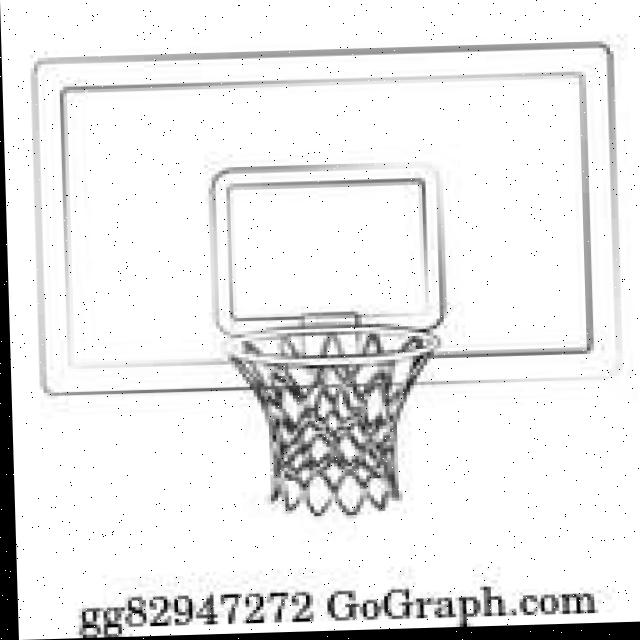hoop: (227, 322, 447, 519)
